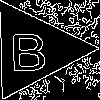B: (9, 24, 48, 71)
